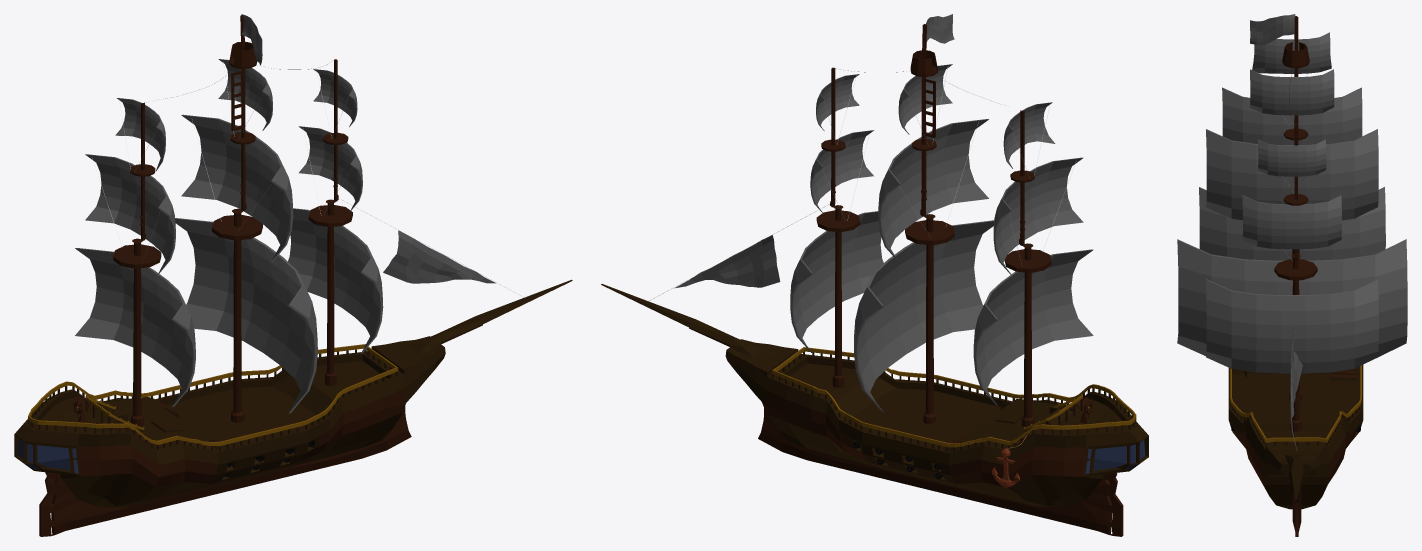
Rendered from ship.glb.
3 renders of one model, left to right at view 1: azimuth 30°, elevation 25°; view 2: azimuth 150°, elevation 25°; view 3: azimuth 270°, elevation 25°, orthographic. The views are drawn at different scales.
Parts seen in each view (by area): view 1: pirate ship; view 2: pirate ship; view 3: pirate ship.
Boxes of the visible parts, <box> form: pirate ship: <box>14,14,572,536</box>; pirate ship: <box>601,14,1148,536</box>; pirate ship: <box>1177,14,1407,536</box>.
Bounding box in the file's own units: 59.23 × 48.64 × 22.35.
